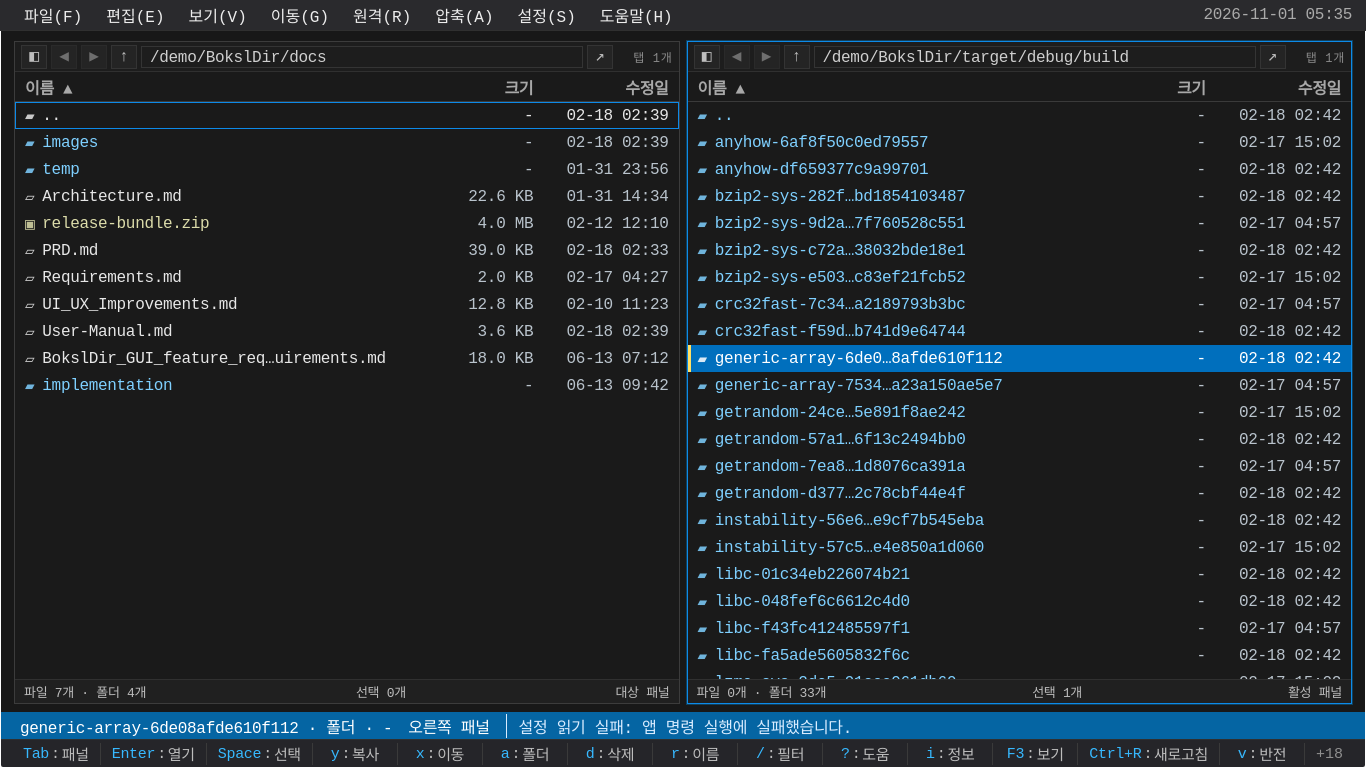
Test case: CommanderShell navigation › keeps an invalid path in the prompt and leaves the panel listing unchanged until a valid path succeeds
The image size is (1366, 768).
Type keys "gp"
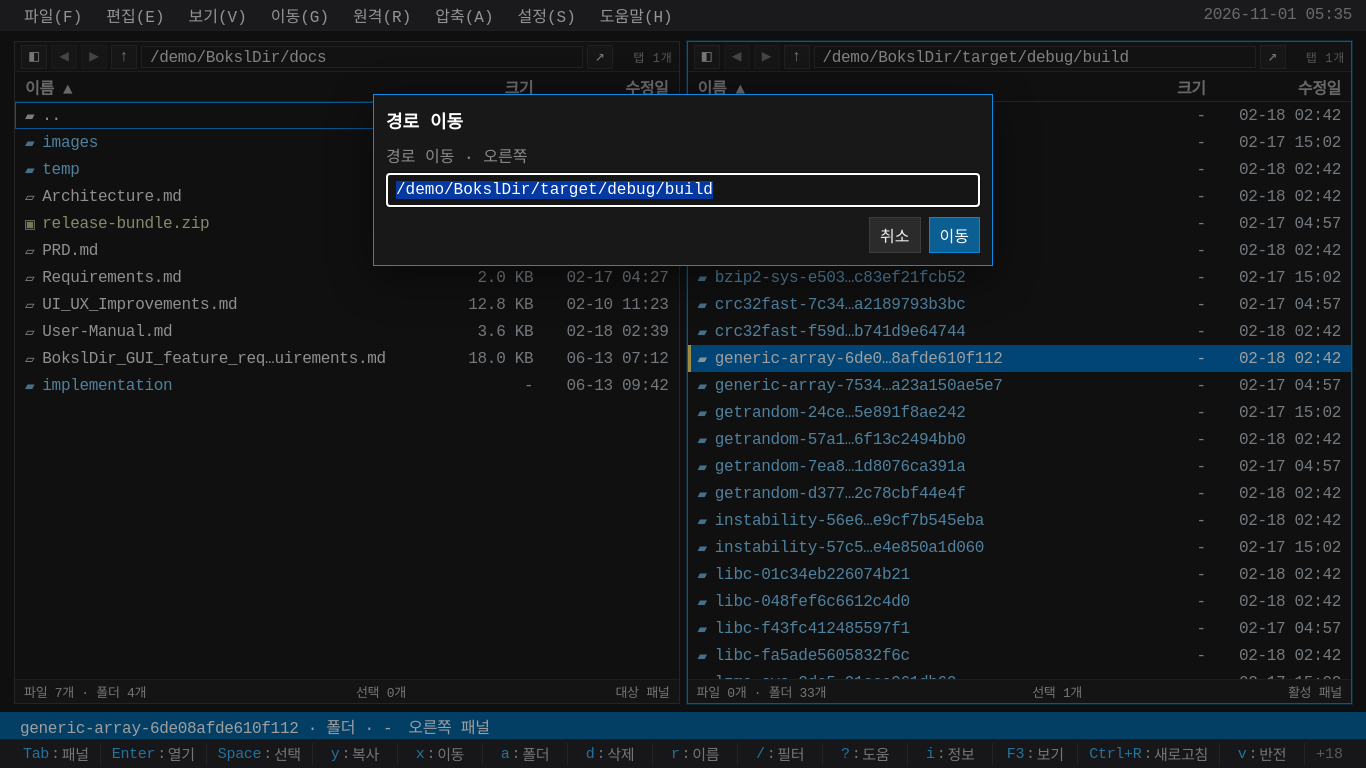
Clear the field labelled "경로" at (683, 190), box [386,173,980,207]
Click the button "이동" at (954, 235), box [928,217,980,253]
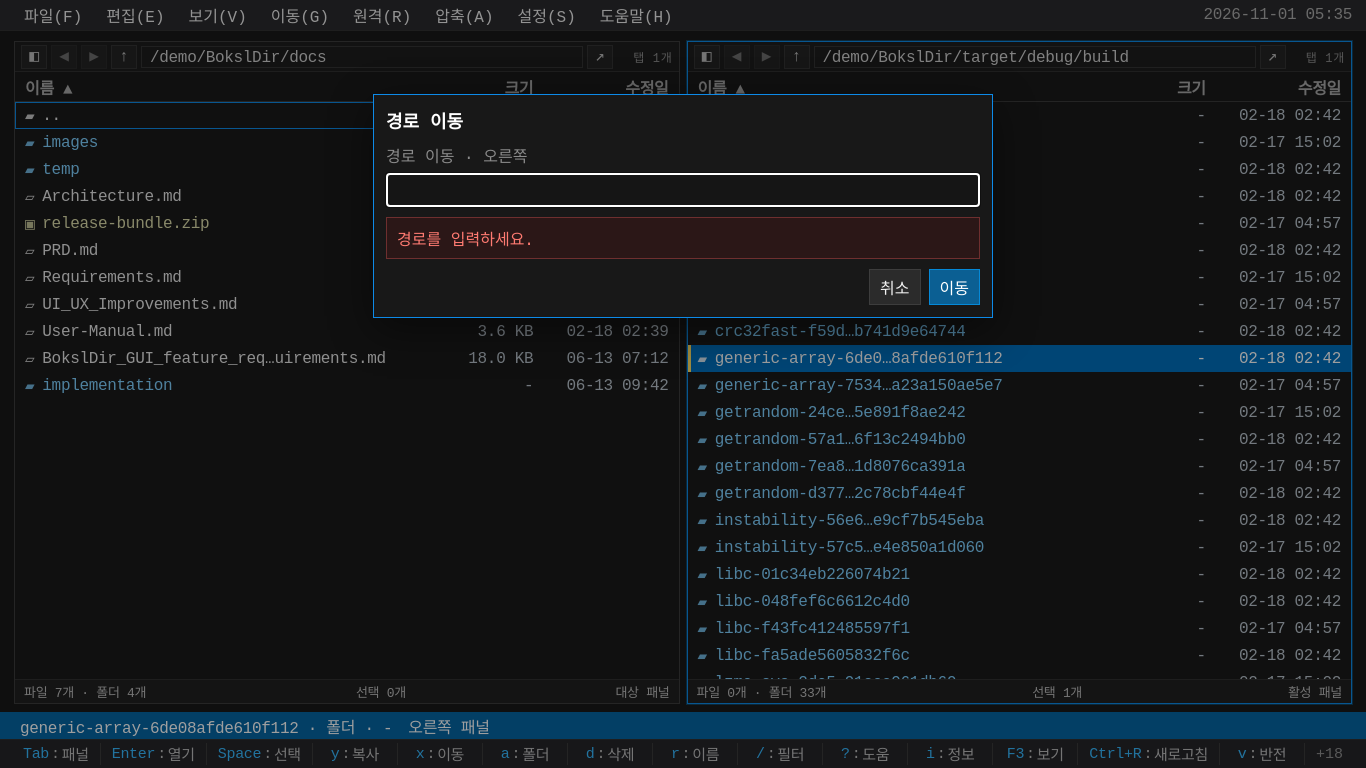
Expected: the message reads "경로를 입력하세요.", [397,232,534,250]
Type "/missing/directory" into the field labelled "경로" at (683, 190), box [386,173,980,207]
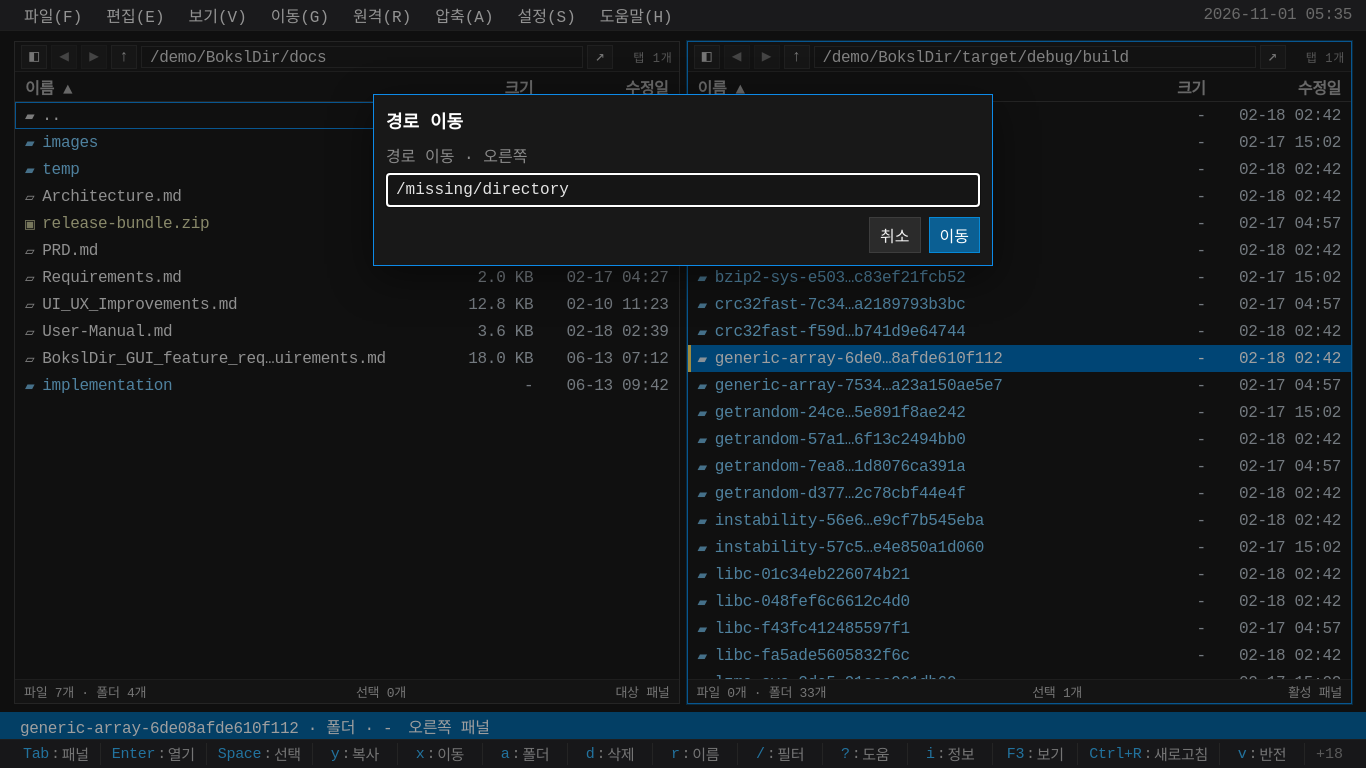
Expected: the message "경로를 입력하세요." is gone
Click the button "이동" at (954, 235), box [928,217,980,253]
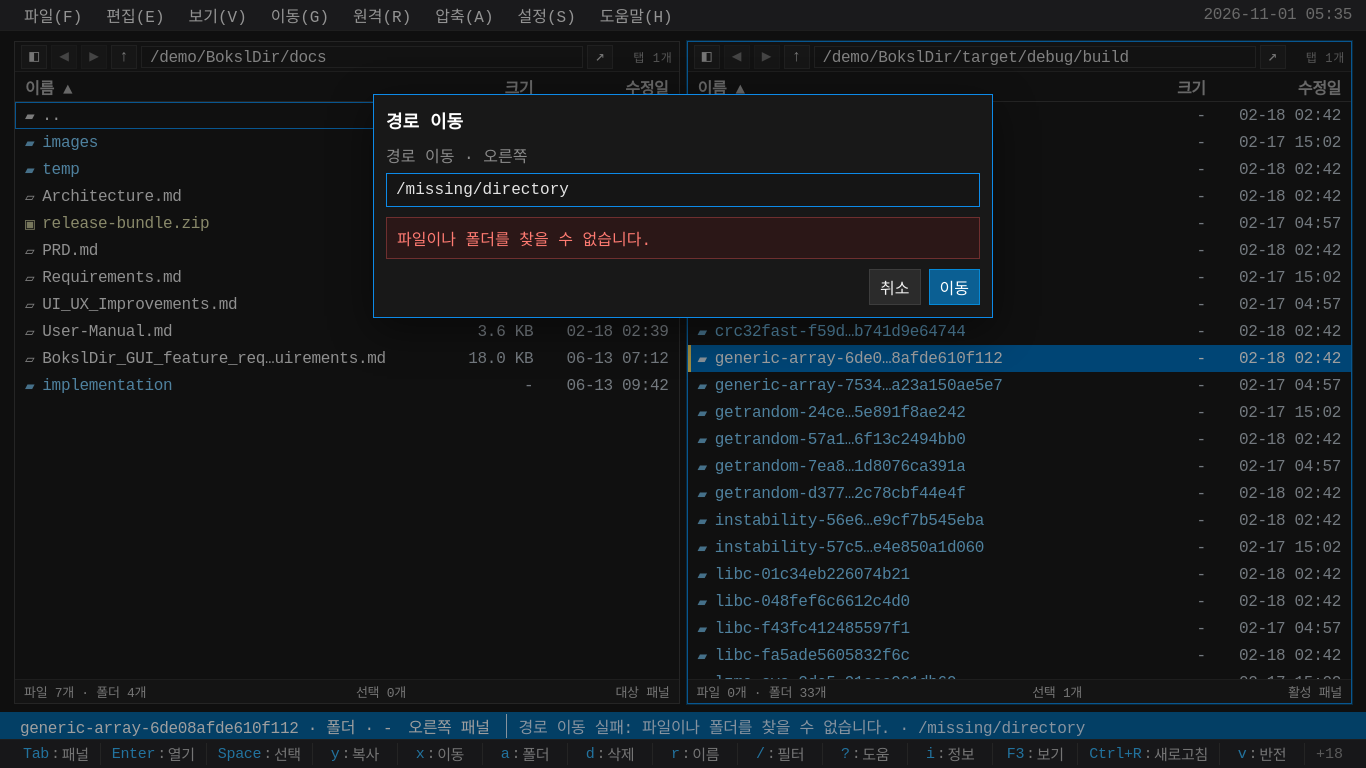
Expected: the element showing "/demo/BokslDir/target/debug/build" is shown, [814,46,1256,68]
Expected: the message reads "파일이나 폴더를 찾을 수 없습니다.", [397,232,651,250]
Replace the text in the field labelled "경로" with "/tmp/valid-directory" at (683, 190), box [386,173,980,207]
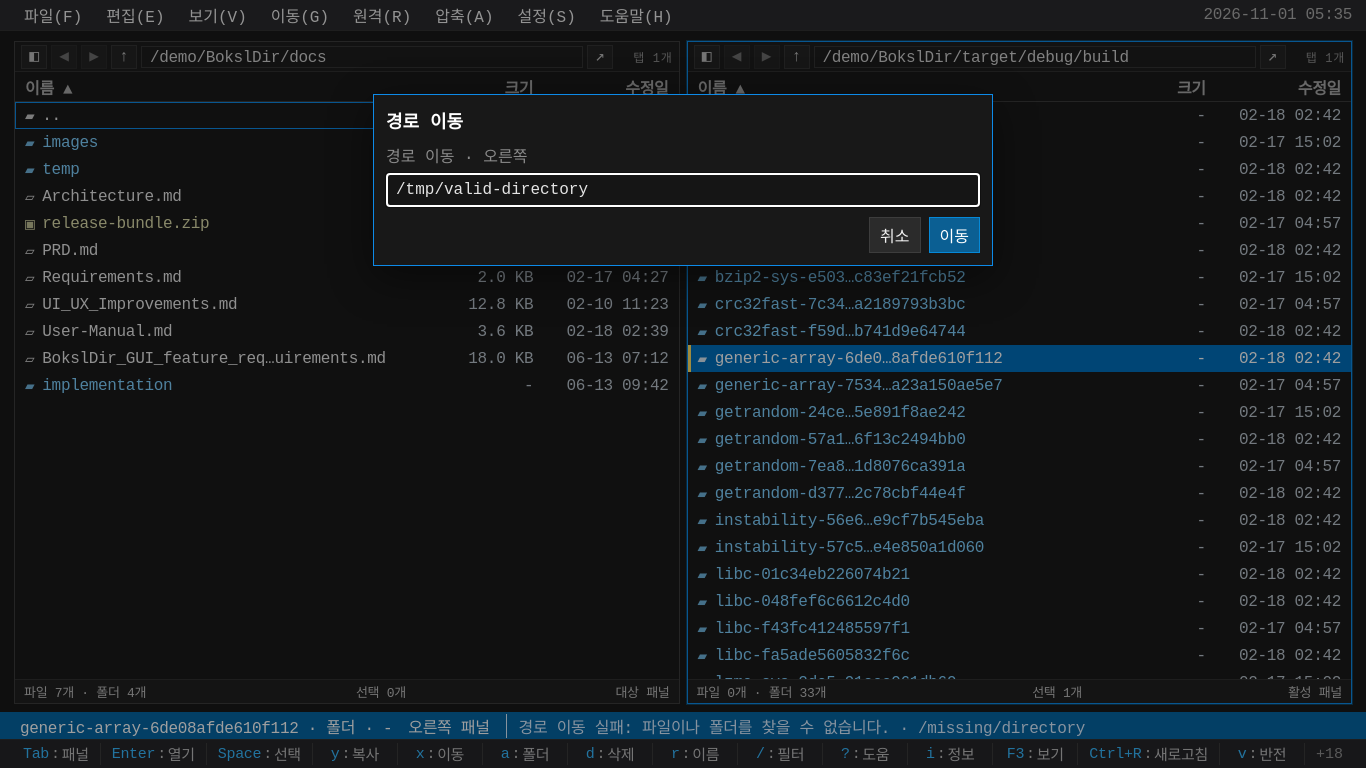
Click the button "이동" at (954, 235), box [928,217,980,253]
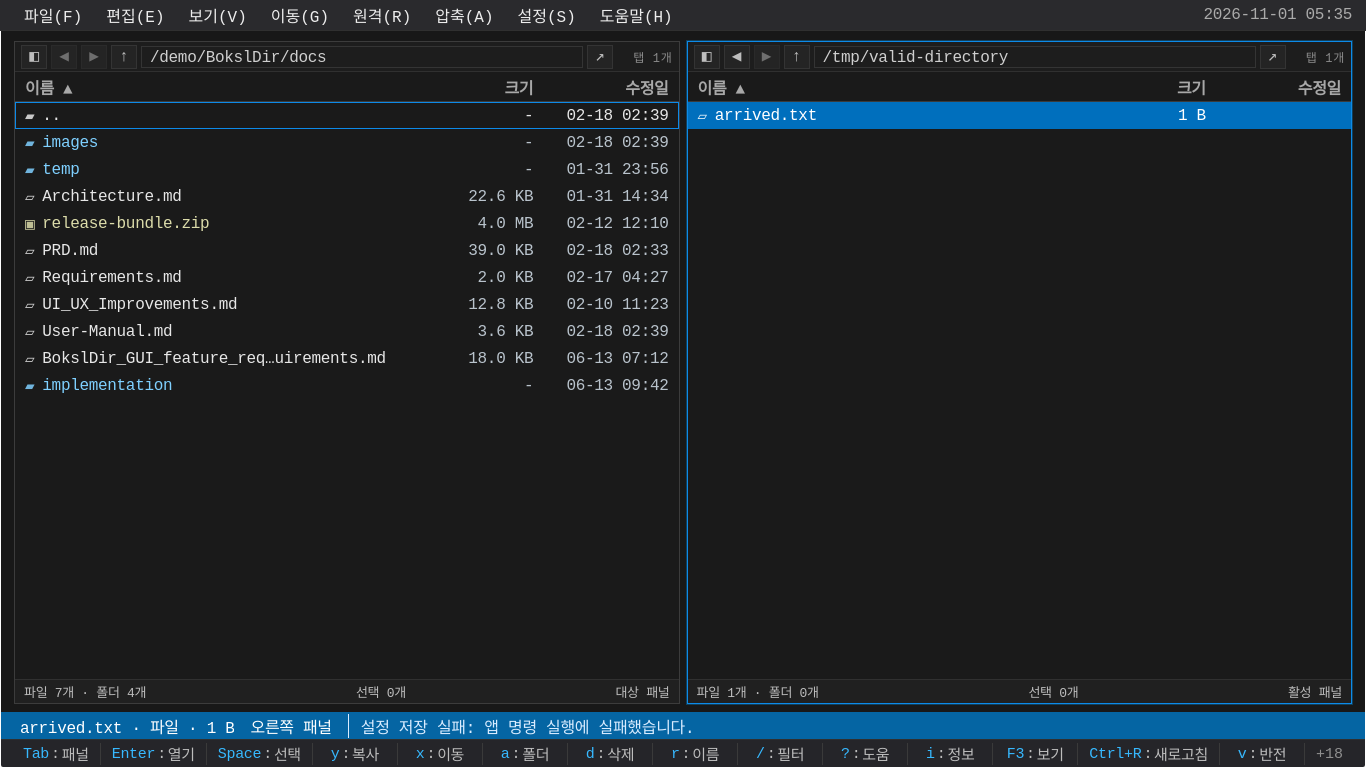
Expected: the text "경로 이동" is gone
Expected: the text "arrived.txt" is shown, [715,106,817,124]
